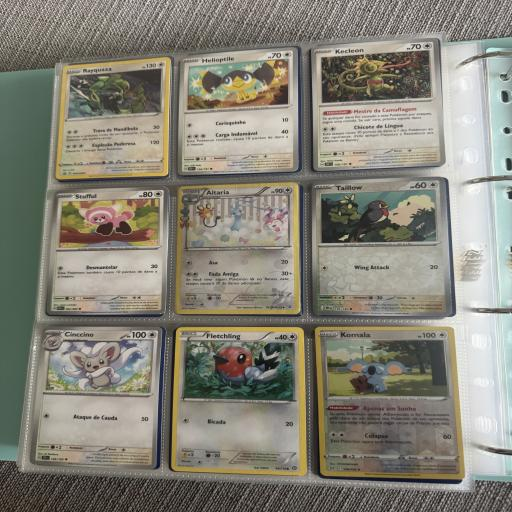card: (314, 320, 466, 486), (171, 322, 313, 476), (307, 177, 452, 322), (304, 38, 447, 176), (29, 322, 163, 469), (174, 182, 301, 315), (46, 185, 169, 316), (177, 47, 299, 176), (53, 57, 173, 180)
